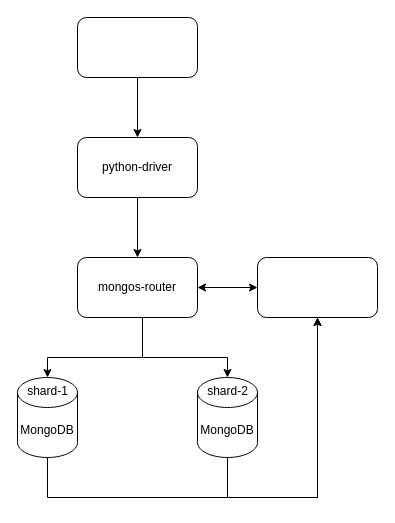
The diagram is 395 pixels wide and 523 high, and some of its shapes have lost their labels. The box of each missing label's shape, as (x1, y1, x2, y2) in pixels:
mongo-config: (256, 256, 378, 318)
pymongo-api: (76, 16, 198, 78)
